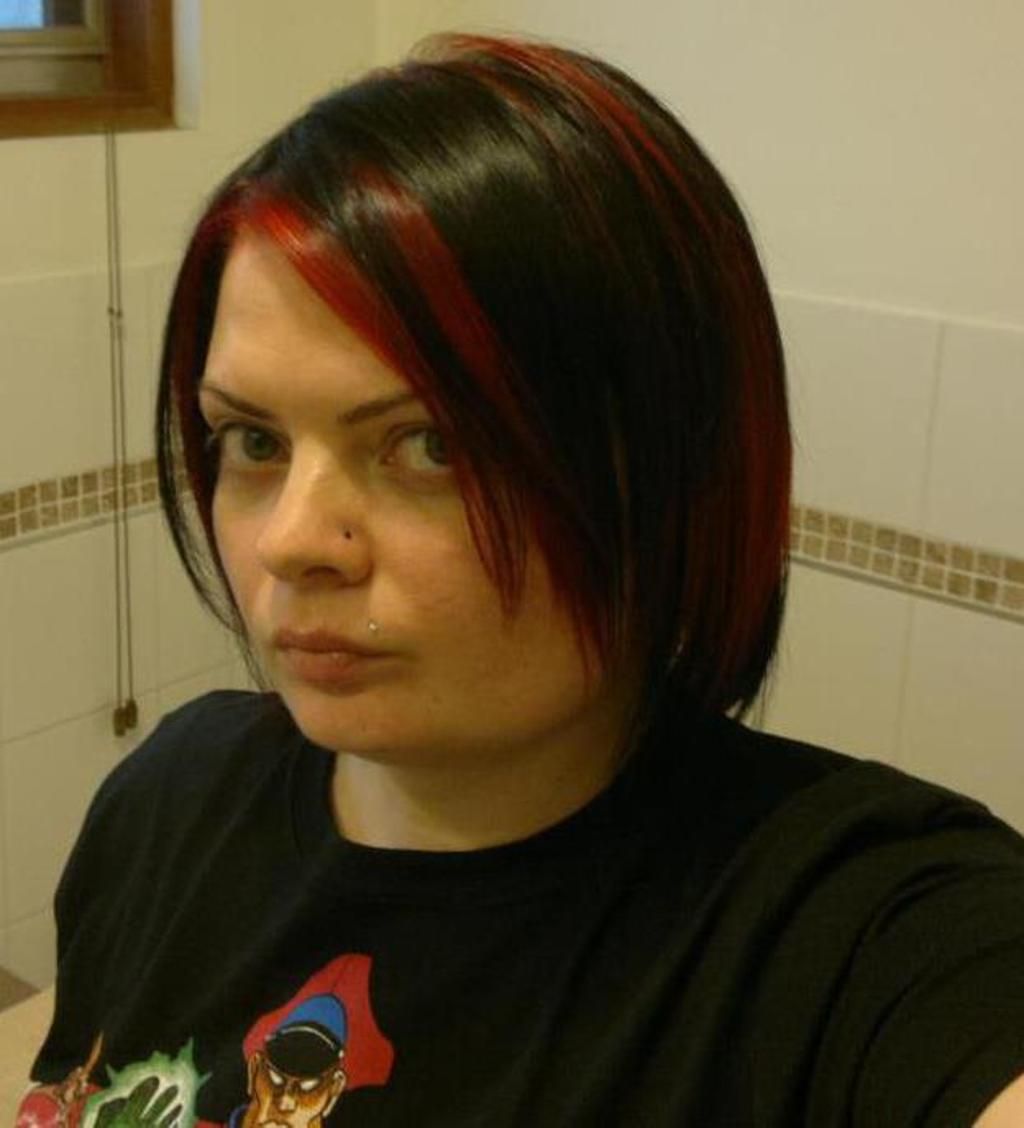face: (209, 220, 557, 762)
